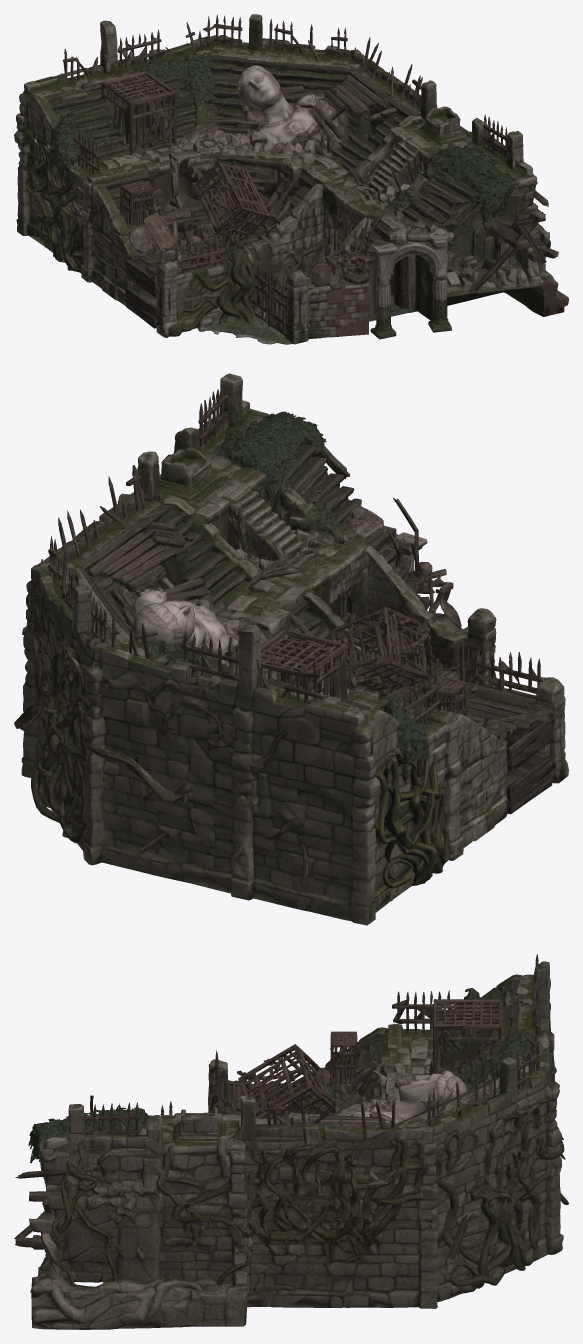
File: arena_corner_4.glb
The picture shows the model from 3 angles, top to bottom: view 1: azimuth 30°, elevation 25°; view 2: azimuth 150°, elevation 25°; view 3: azimuth 270°, elevation 25°; orthographic projection. The views are drawn at different scales.
Parts seen in each view (by area): view 1: mesh_node; view 2: mesh_node; view 3: mesh_node.
Part boxes in pixels (x1,y1,x2,y2): mesh_node: (14, 14, 568, 344); mesh_node: (14, 373, 568, 925); mesh_node: (14, 954, 568, 1329).
Size of the model in its own units: 1.65 by 0.8749 by 1.95.
Materials: 1 (1 with a texture image).
